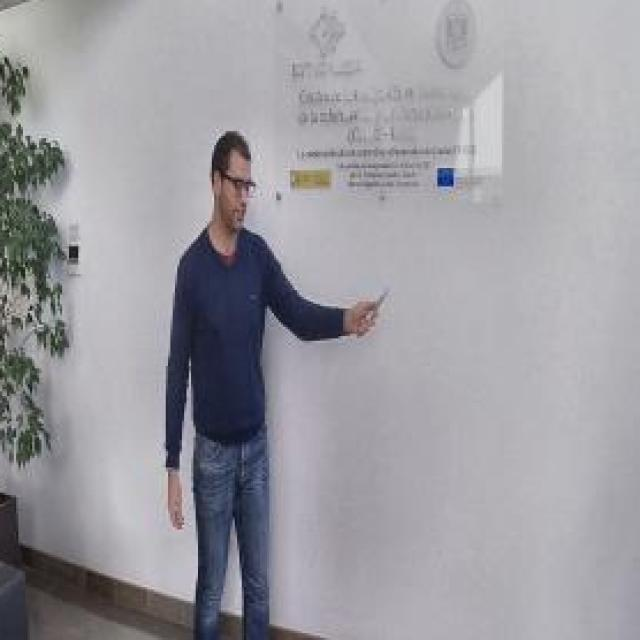knife: (354, 281, 392, 342)
